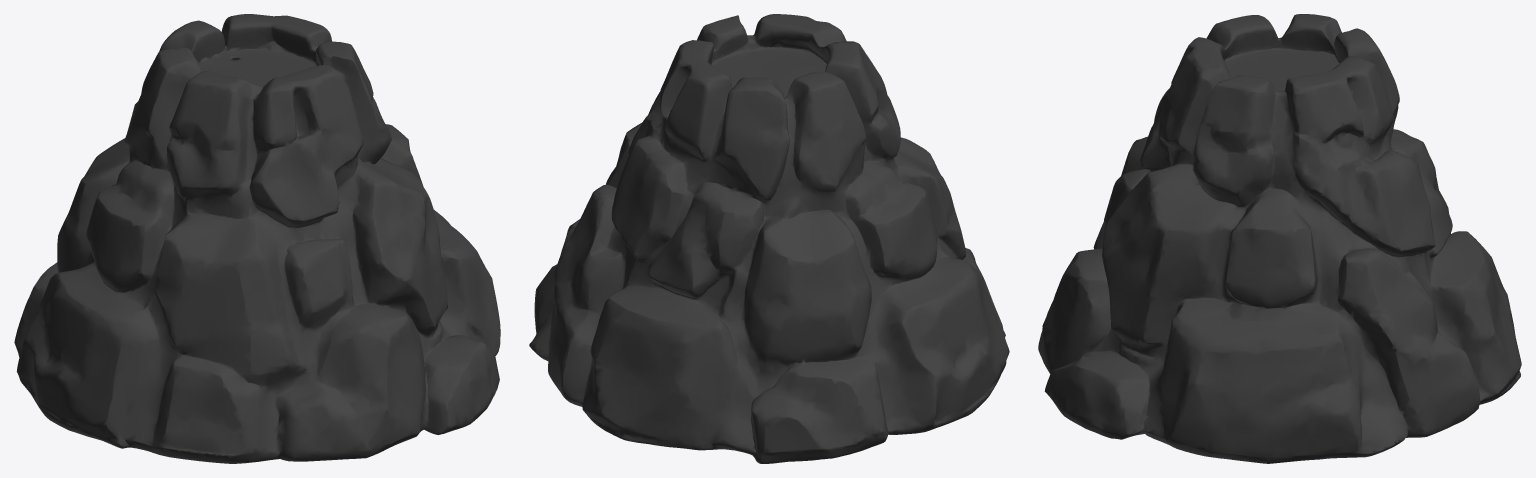
The model's file is pr_roca_lava.glb.
The picture shows the model from 3 angles, left to right: view 1: azimuth 30°, elevation 25°; view 2: azimuth 150°, elevation 25°; view 3: azimuth 270°, elevation 25°; orthographic projection. The views are drawn at different scales.
Visible parts, largest first — view 1: geometry_0; view 2: geometry_0; view 3: geometry_0.
Boxes of the visible parts, x1,y1,x2,y2 form: geometry_0: [14, 14, 500, 463]; geometry_0: [529, 14, 1009, 463]; geometry_0: [1038, 14, 1521, 463].
Bounding box in the file's own units: 1.33 × 0.9875 × 1.34.
1 material, 1 textured.
